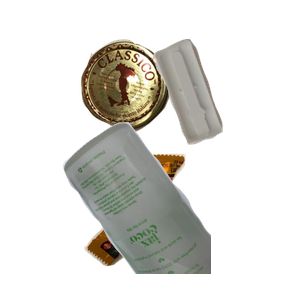glass: (60, 120, 300, 300)
metal: (78, 37, 243, 163)
plastic: (150, 36, 300, 173)
trash: (82, 151, 260, 300)
